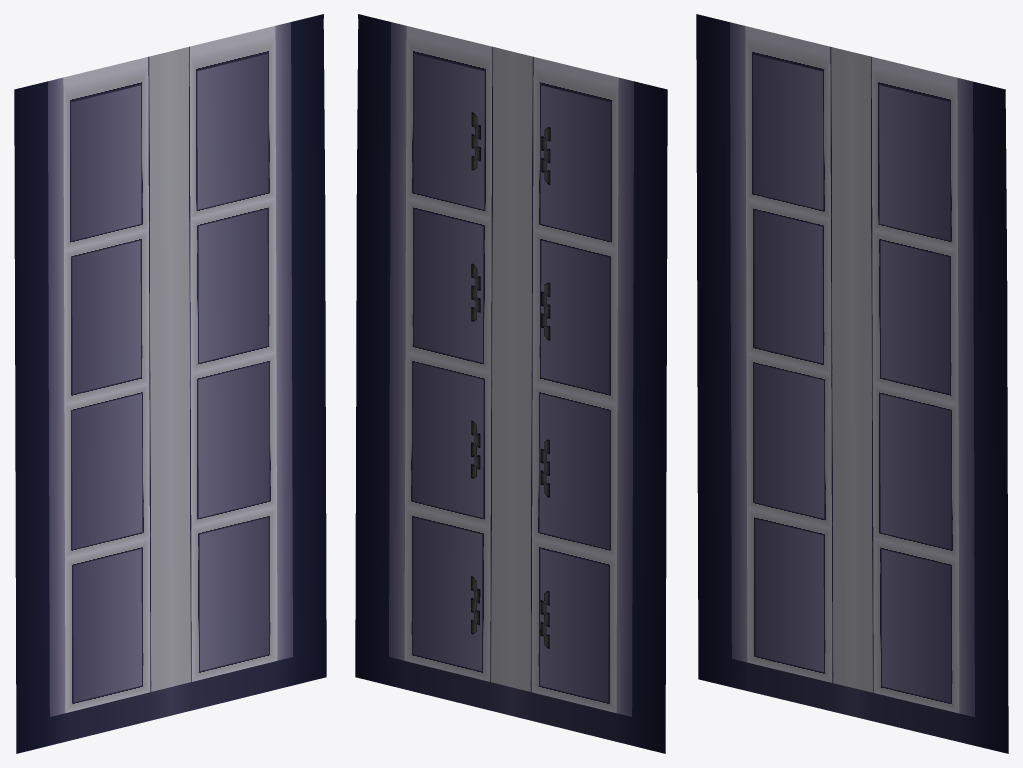
Rendered from floor_1.fbx.
3 views of the same model, side by side, from view 1: azimuth 30°, elevation 25°; view 2: azimuth 150°, elevation 25°; view 3: azimuth 330°, elevation 25° (orthographic).
Parts seen in each view (by area): view 1: floor; view 2: floor; view 3: floor.
Boxes of the visible parts, x1=… form: floor: x1=14, y1=14, x2=326, y2=753; floor: x1=355, y1=14, x2=667, y2=753; floor: x1=696, y1=14, x2=1008, y2=753.
Bounding box in the file's own units: 3.49 × 7.11 × 0.0218.
2 materials, 2 textured.
